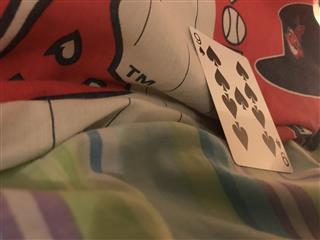NineOfSpades: (188, 25, 293, 173)
